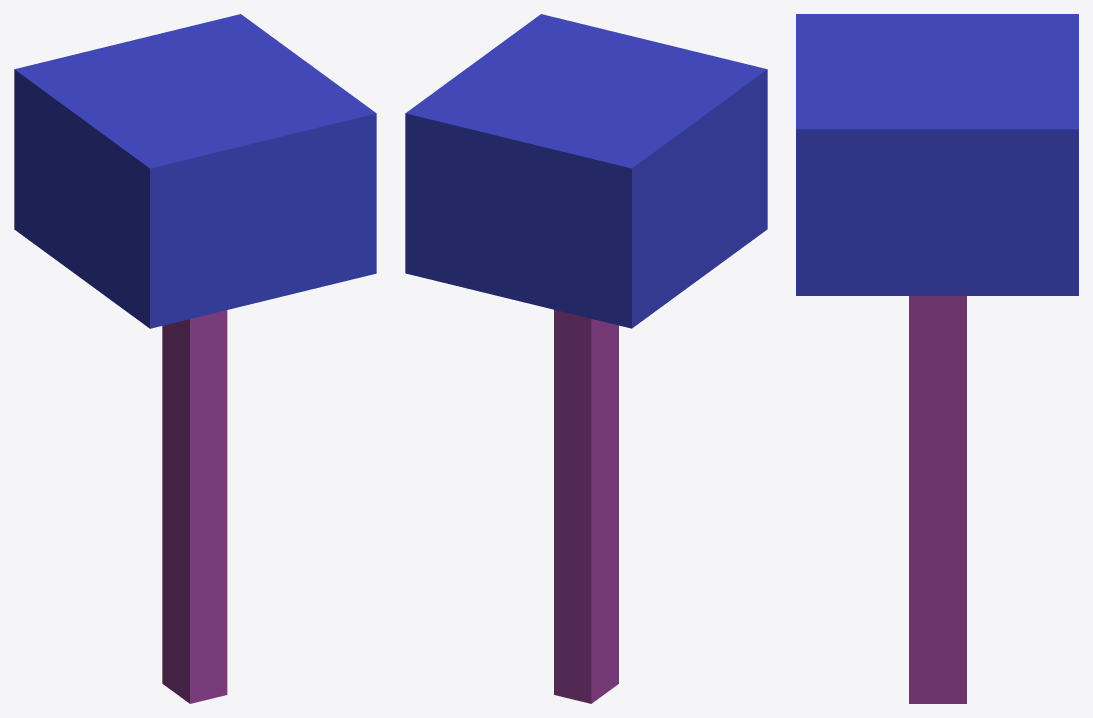
Rendered from GetAmi.fbx.
The picture shows the model from 3 angles, left to right: view 1: azimuth 30°, elevation 25°; view 2: azimuth 150°, elevation 25°; view 3: azimuth 270°, elevation 25°; orthographic projection. The views are drawn at different scales.
Parts seen in each view (by area): view 1: Box002, Box001; view 2: Box002, Box001; view 3: Box002, Box001.
Boxes of the visible parts, left/top/right/bottom form: Box002: left=14, top=14, right=376, bottom=328; Box001: left=162, top=310, right=227, bottom=703; Box002: left=405, top=14, right=767, bottom=328; Box001: left=554, top=309, right=618, bottom=703; Box002: left=796, top=14, right=1078, bottom=295; Box001: left=909, top=296, right=966, bottom=703.
Bounding box in the file's own units: 38.7 × 40.17 × 97.63.
Materials: 2 (2 with a texture image).
